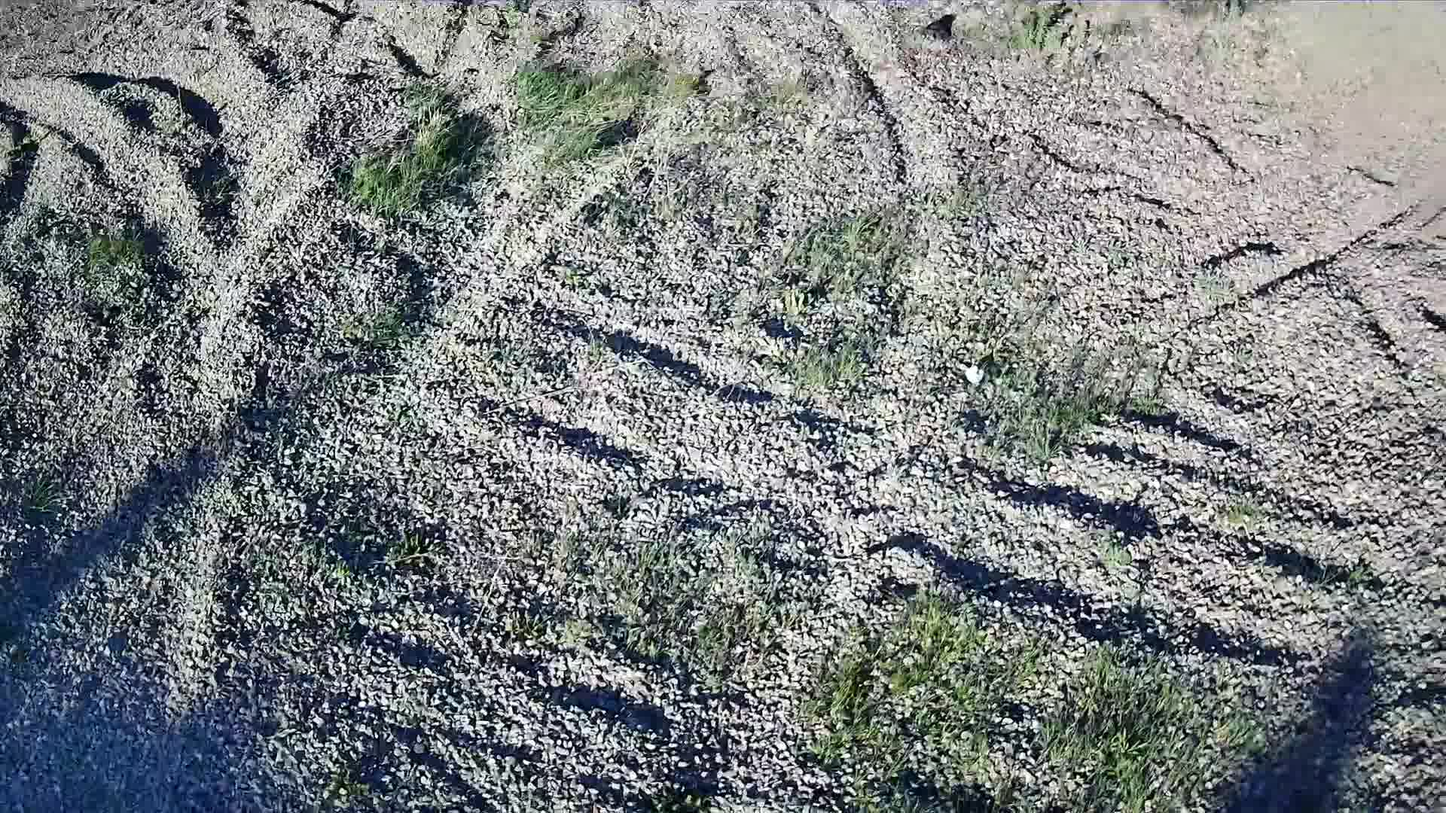Target: (964, 365, 986, 384)
